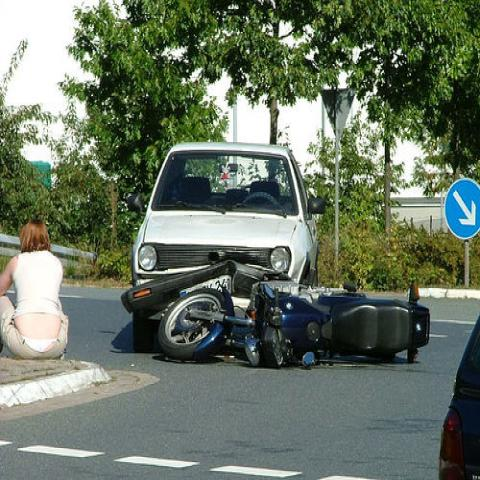car: (132, 150, 307, 287), (437, 310, 479, 478)
motorcycle: (156, 280, 430, 369)
